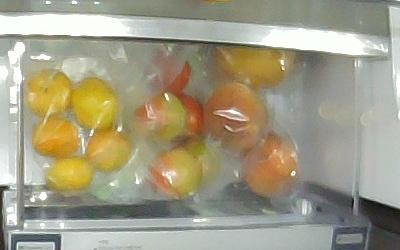peach_vinyl: (205, 82, 268, 154), (242, 136, 296, 195)
pear_vinyl: (212, 43, 293, 85)
tangerine_vinyl: (71, 77, 119, 131), (32, 115, 82, 159), (28, 70, 73, 118), (85, 130, 132, 174), (48, 158, 95, 192)
tomato_vinyl: (148, 147, 199, 199), (135, 93, 183, 142), (146, 49, 191, 95), (184, 140, 221, 184), (175, 95, 205, 143)
